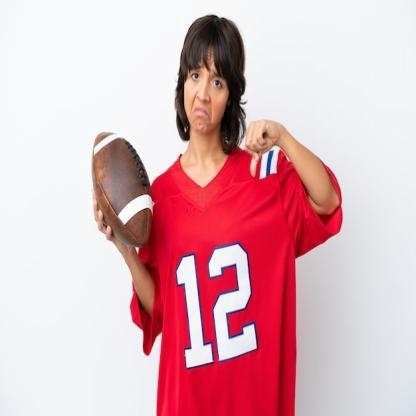thumb_down: (244, 116, 282, 179)
